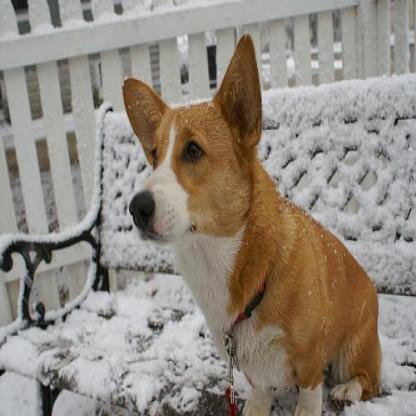Pembroke: (119, 30, 385, 413)
